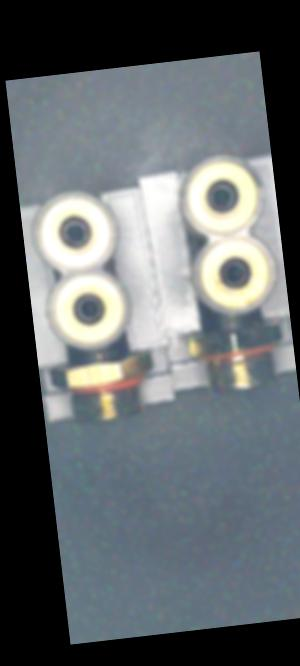craze: (224, 311, 240, 335), (92, 346, 108, 365)
off-centered: (54, 211, 95, 252)
